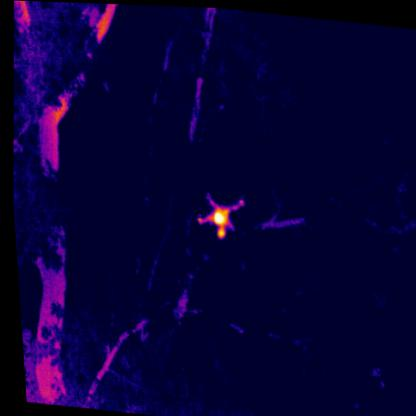drone: (190, 189, 244, 238)
